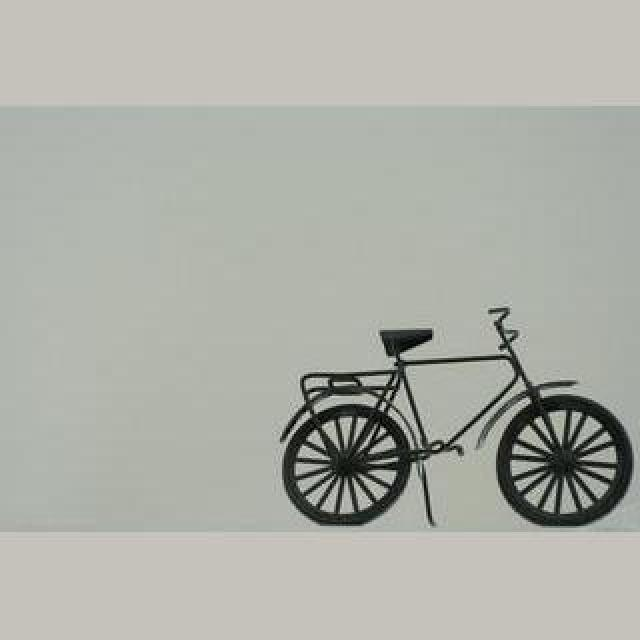Person: (277, 310, 635, 528)
